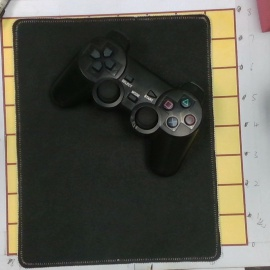remote: (49, 30, 205, 180)
